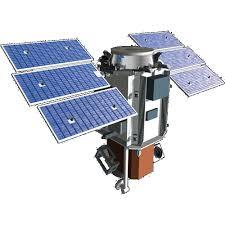antenna: (114, 146, 131, 195)
body: (98, 45, 170, 180)
solar: (36, 86, 138, 145), (11, 62, 110, 107), (1, 38, 94, 73), (170, 64, 225, 98), (154, 45, 206, 72), (128, 30, 186, 49)
